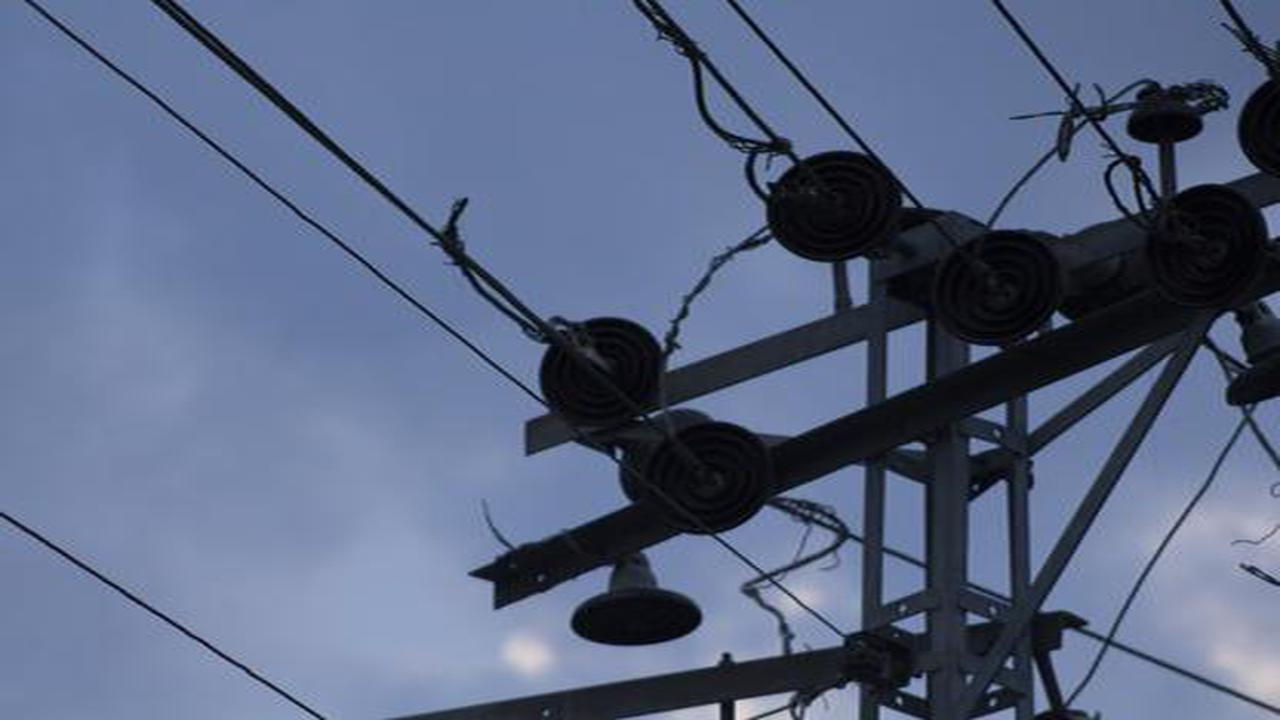insulator_disc: (758, 137, 910, 272), (1137, 184, 1268, 314), (643, 419, 778, 539), (929, 227, 1066, 345), (536, 313, 668, 430), (574, 561, 708, 645)
insulator_pin: (1123, 76, 1211, 153)
